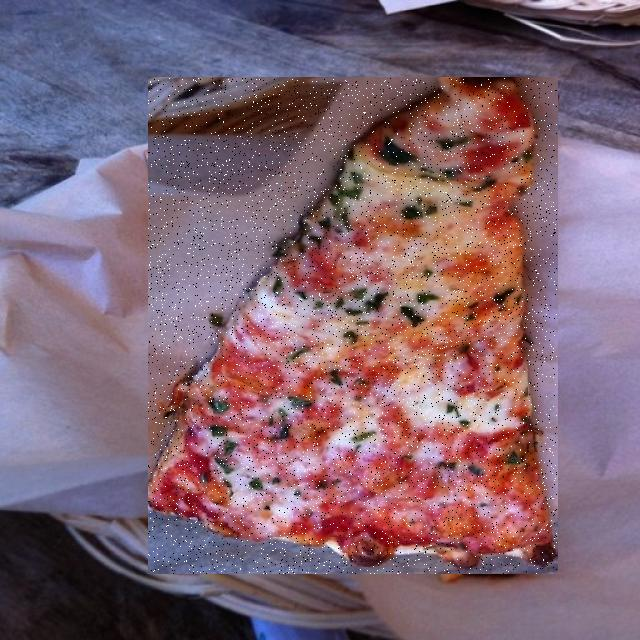Pizza: (148, 78, 557, 574)
